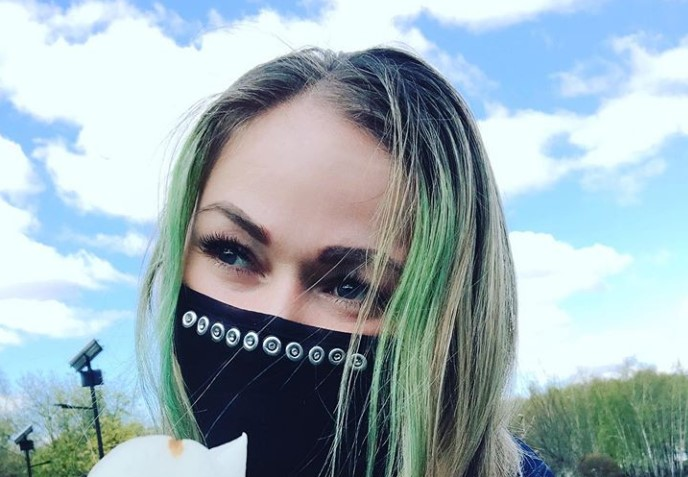face_with_mask: (174, 51, 465, 470)
